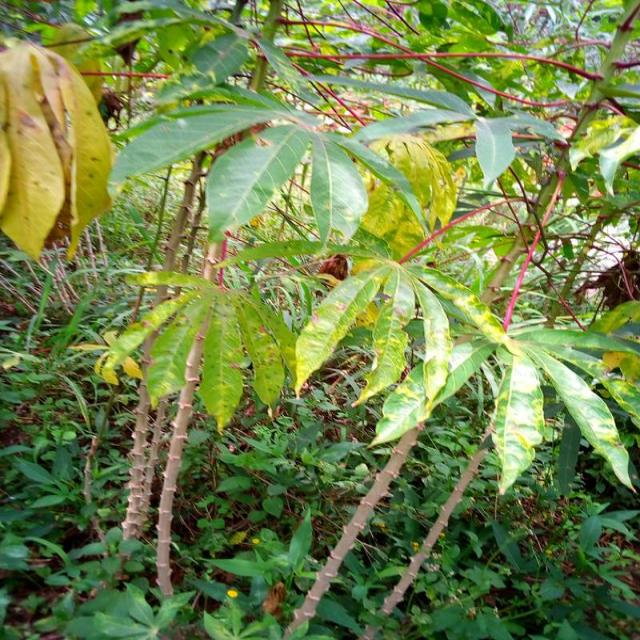cassava leaf: (0, 38, 115, 264), (204, 122, 310, 243)
